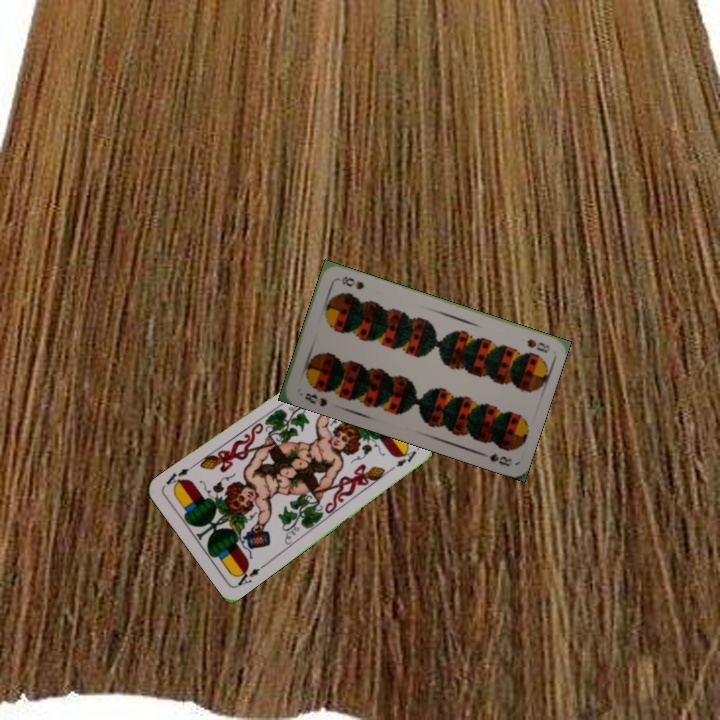EA: (232, 560, 268, 589)
S8: (300, 389, 330, 409), (523, 335, 552, 355)
